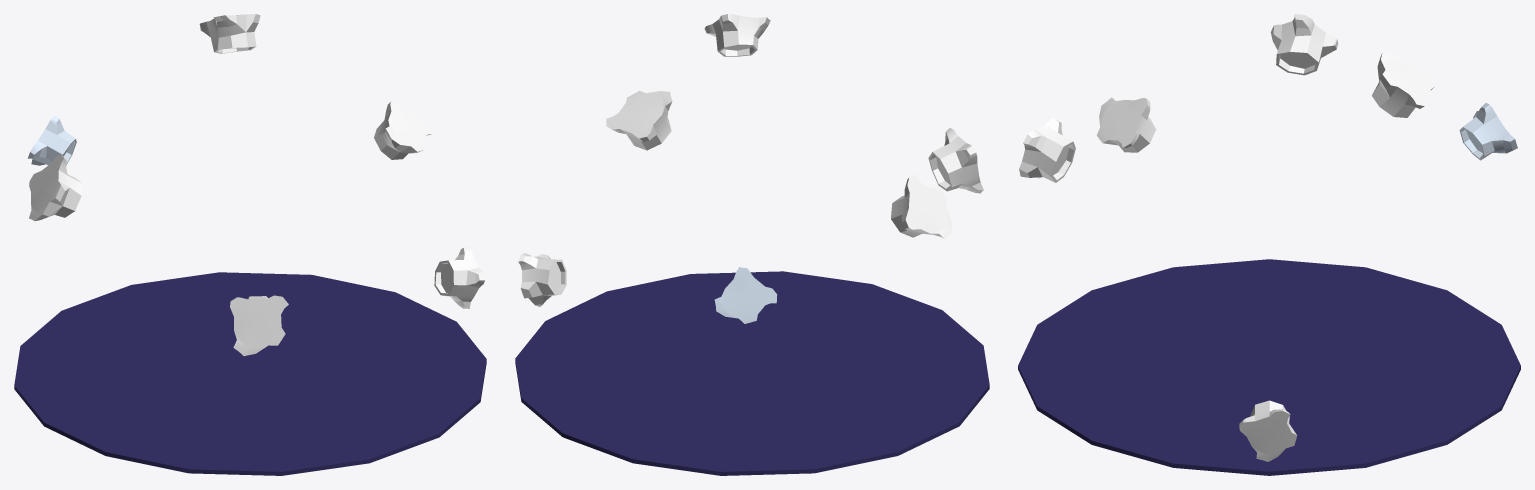
Rendered from deltabase.glb.
The picture shows the model from 3 angles, left to right: view 1: azimuth 30°, elevation 25°; view 2: azimuth 150°, elevation 25°; view 3: azimuth 270°, elevation 25°; orthographic projection. The views are drawn at different scales.
Visible parts, largest first — view 1: floor.001, stump_3.002, stump_4.002, stump_6.002, stump_1.002, stump_2.002, stump_5.002; view 2: floor.001, stump_4.002, stump_2.002, stump_3.002, stump_5.002, stump_6.002, stump_1.002; view 3: floor.001, stump_4.002, stump_2.002, stump_6.002, stump_3.002, stump_1.002, stump_5.002.
Boxes of the visible parts, left/top/right/bottom form: floor.001: left=14, top=272, right=486, bottom=475; stump_3.002: left=230, top=295, right=288, bottom=355; stump_4.002: left=29, top=154, right=82, bottom=221; stump_6.002: left=374, top=101, right=432, bottom=159; stump_1.002: left=434, top=246, right=484, bottom=308; stump_2.002: left=199, top=14, right=260, bottom=53; stump_5.002: left=28, top=116, right=76, bottom=165; floor.001: left=515, top=271, right=989, bottom=475; stump_4.002: left=891, top=174, right=952, bottom=238; stump_2.002: left=606, top=90, right=672, bottom=150; stump_3.002: left=928, top=128, right=983, bottom=193; stump_5.002: left=714, top=267, right=777, bottom=323; stump_6.002: left=704, top=14, right=770, bottom=56; stump_1.002: left=518, top=253, right=566, bottom=306; floor.001: left=1018, top=259, right=1520, bottom=475; stump_4.002: left=1270, top=14, right=1338, bottom=75; stump_2.002: left=1372, top=52, right=1436, bottom=117; stump_6.002: left=1096, top=97, right=1156, bottom=152; stump_3.002: left=1019, top=118, right=1075, bottom=182; stump_1.002: left=1239, top=400, right=1297, bottom=461; stump_5.002: left=1459, top=102, right=1517, bottom=160.
Size of the model in its own units: 27.51 by 19.17 by 26.29.
